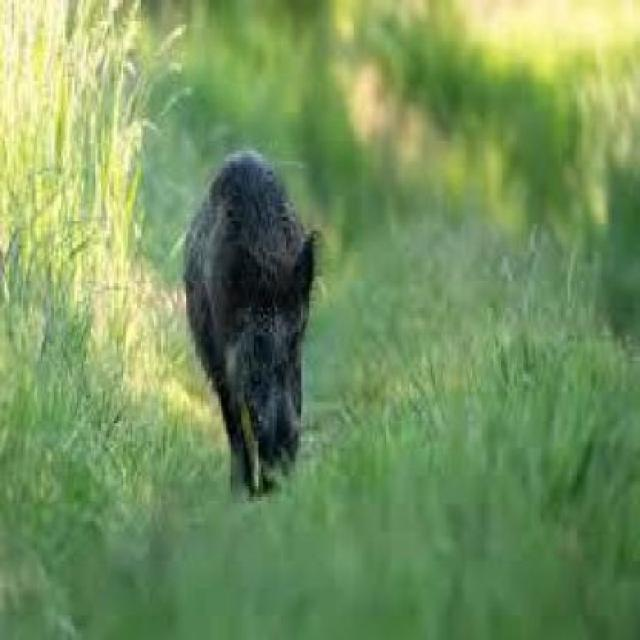wildboar: (180, 144, 323, 505)
